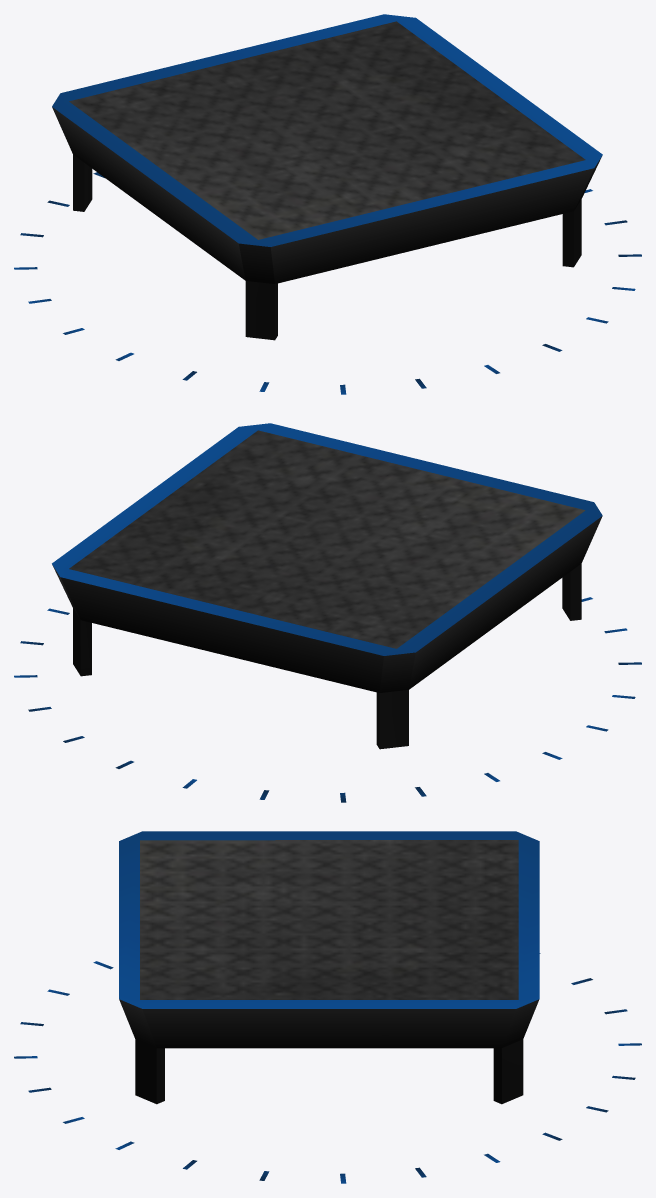
Rendered from platform1_trampoline.glb.
3 views of the same model, one above another, from view 1: azimuth 30°, elevation 25°; view 2: azimuth 150°, elevation 25°; view 3: azimuth 270°, elevation 25° (orthographic).
Parts seen in each view (by area): view 1: Circle, Circle.001; view 2: Circle, Circle.001; view 3: Circle, Circle.001.
Boxes of the visible parts, x1,y1,x2,y2 form: Circle: (52, 14, 602, 340); Circle.001: (14, 172, 641, 394); Circle: (52, 423, 602, 749); Circle.001: (14, 597, 641, 802); Circle: (119, 831, 539, 1104); Circle.001: (14, 953, 641, 1183).
Size of the model in its own units: 6.72 by 1.55 by 6.72.
1 material, 1 textured.
